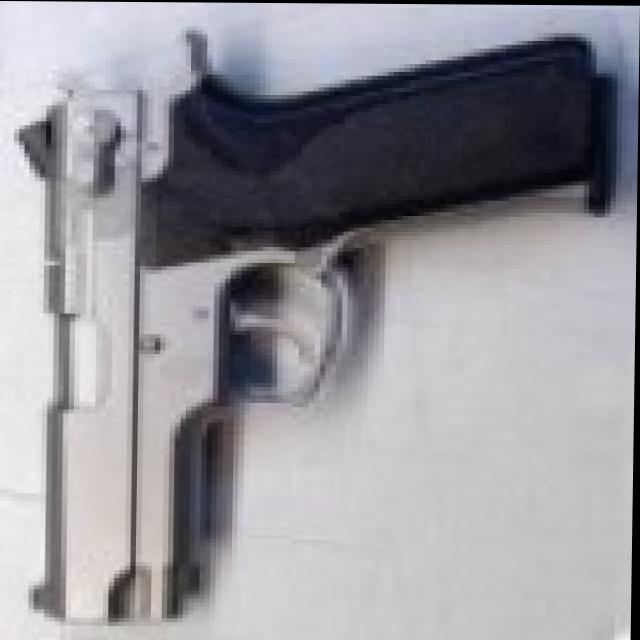handgun: (4, 12, 613, 628)
